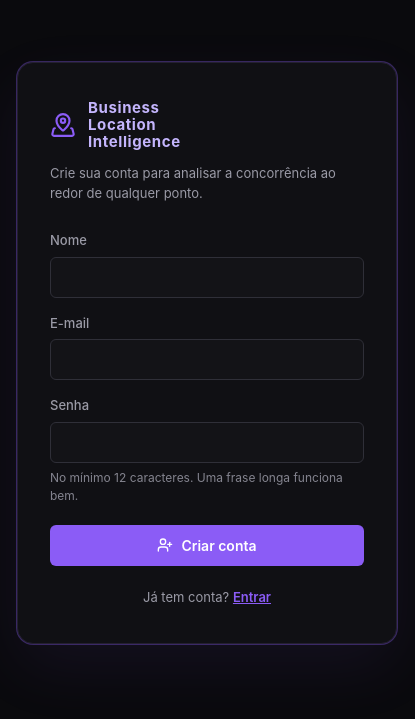
Test: RegisterPage › maps server field problems onto the fields, in Portuguese
The image size is (415, 719).
Type "  Ana Lima " into the field labelled "Nome" at (207, 277), box [50, 257, 364, 298]
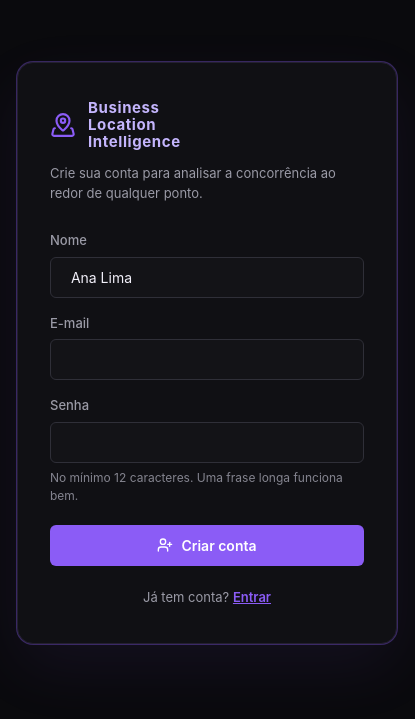
Type " ana@example.com " into the field labelled "E-mail" at (207, 360), box [50, 339, 364, 380]
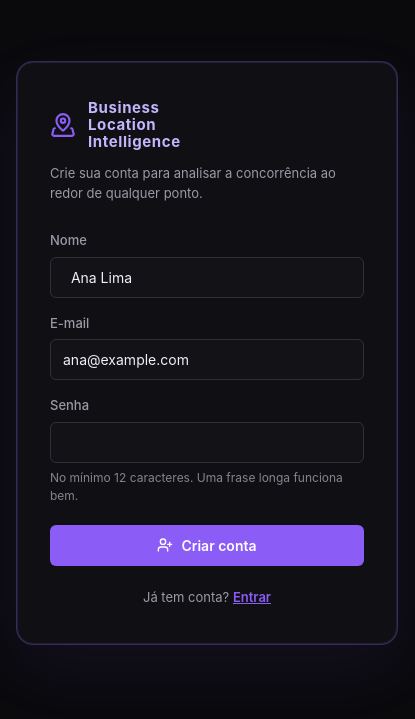
Type "uma frase bem longa 2026" into the password field labelled "Senha" at (207, 442), box [50, 422, 364, 463]
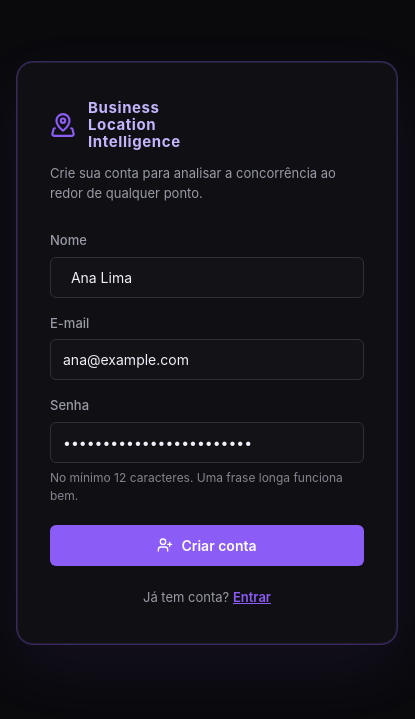
Click the button "Criar conta" at (207, 545), box [50, 525, 364, 566]
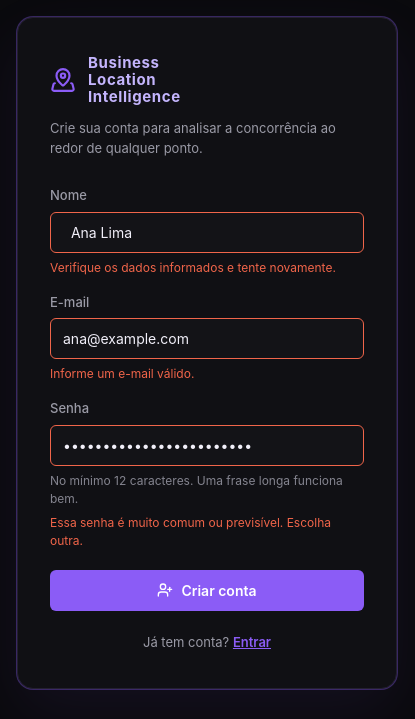
Expected: the text "Essa senha é muito comum ou previsível. Escolha outra." is shown, [50, 514, 364, 550]
Expected: the text "Informe um e-mail válido." is shown, [50, 366, 194, 381]
Expected: the text "Verifique os dados informados e tente novamente." is shown, [50, 259, 364, 277]
